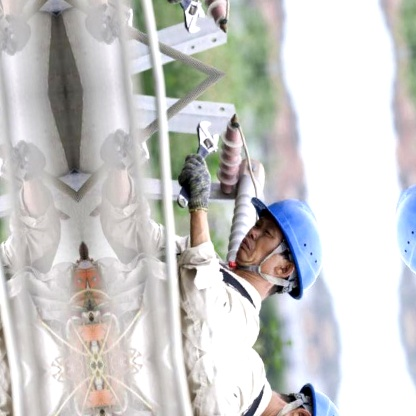blue: (250, 184, 335, 309)
